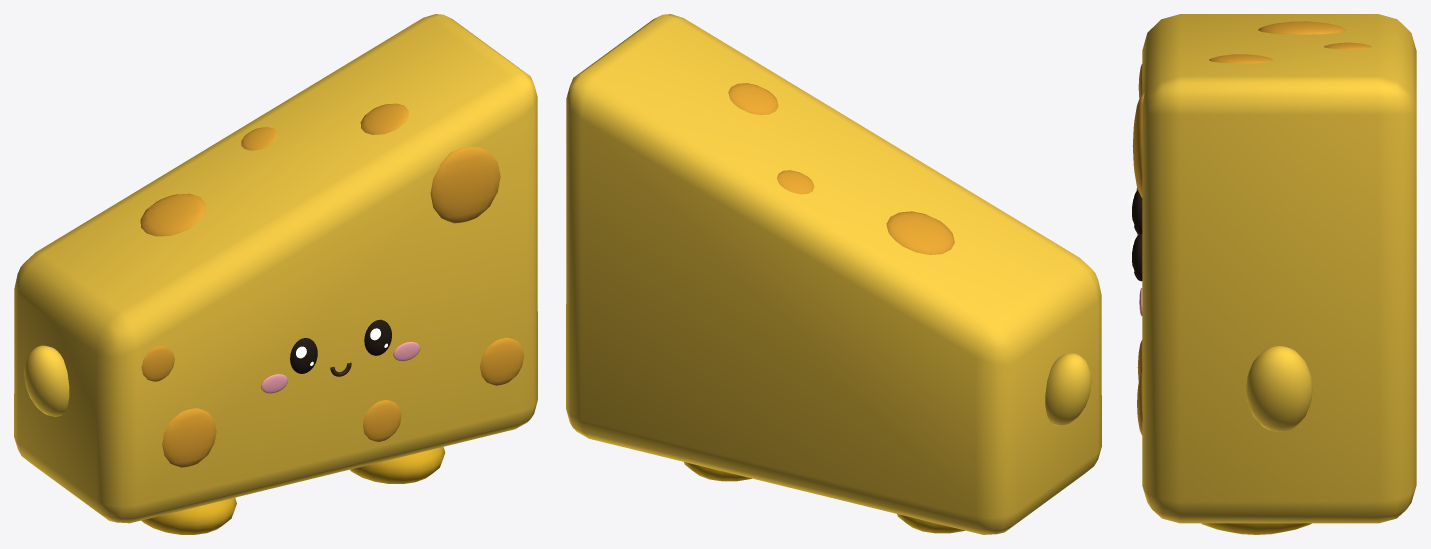
The model's file is cheese.glb.
3 renders of one model, left to right at view 1: azimuth 30°, elevation 25°; view 2: azimuth 150°, elevation 25°; view 3: azimuth 270°, elevation 25°, orthographic. The views are drawn at different scales.
Parts seen in each view (by area): view 1: cheese; view 2: cheese; view 3: cheese.
Boxes of the visible parts, x1,y1,x2,y2 form: cheese: (14, 14, 537, 534); cheese: (566, 14, 1101, 534); cheese: (1130, 14, 1416, 534).
Size of the model in its own units: 0.0953 by 0.0732 by 0.0376.
